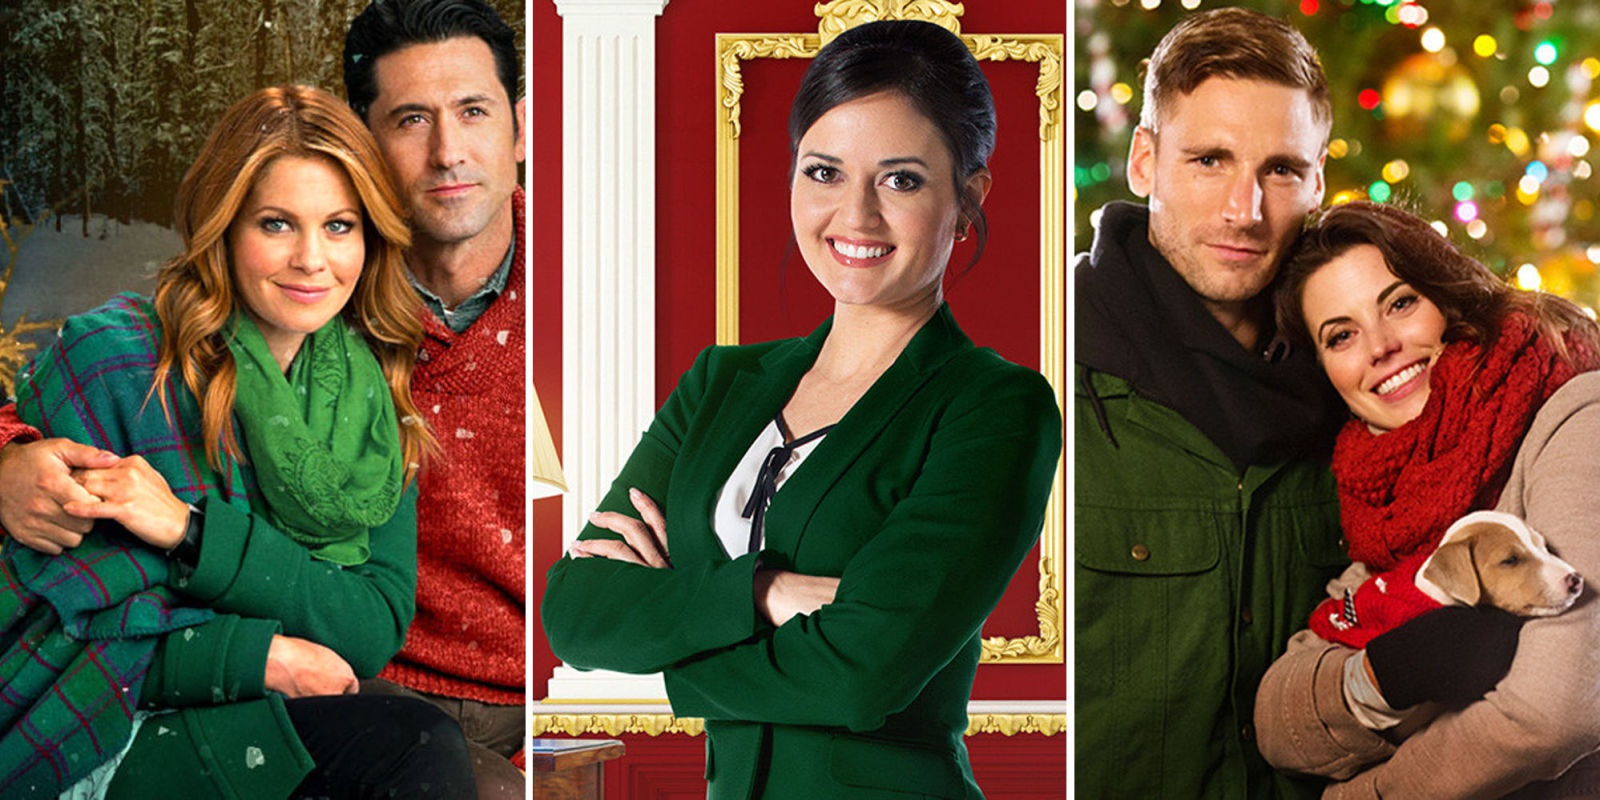bad: (1150, 98, 1336, 284), (786, 133, 941, 288), (1302, 270, 1457, 424), (373, 81, 528, 236), (239, 196, 368, 324)
